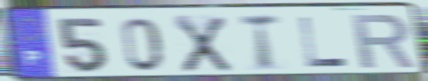0: (120, 16, 165, 72)
5: (54, 16, 110, 75)
L: (297, 16, 351, 69)
R: (350, 13, 418, 70)
T: (237, 13, 283, 72)
X: (172, 14, 233, 74)
